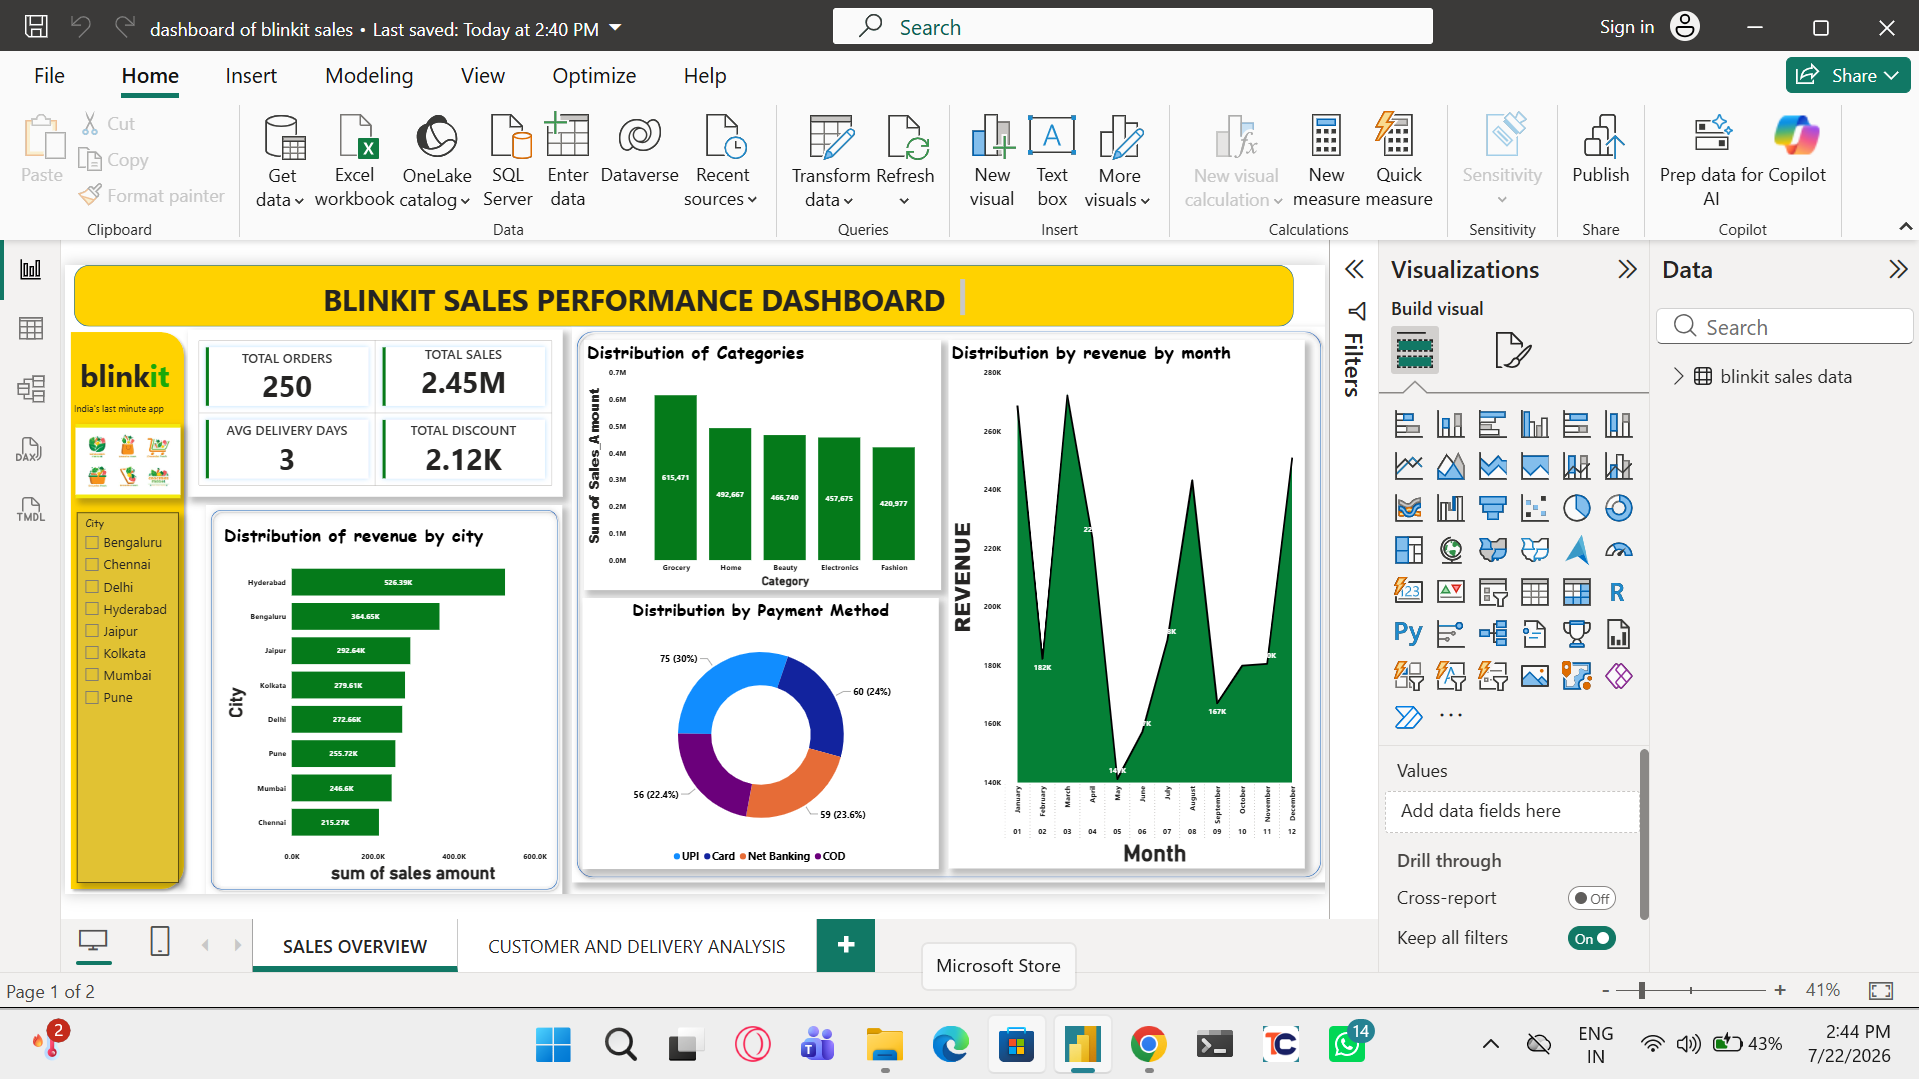

Layout of this report page (visuals, bound fields, positions):
{"tool":"powerbi","page":{"name":"SALES  OVERVIEW","canvas":[2050,1024],"ordinal":0},"visuals":[{"type":"shape","box":[0,100,202.4,923.8],"z":0},{"type":"textbox","box":[14.8,142.6,164.8,74.1],"z":1000},{"type":"textbox","box":[8.9,216.7,166.7,33.3],"z":2000},{"type":"cardVisual","fields":{"Data":["blinkit sales data.Total Orders","blinkit sales data.Total Sales Amount","blinkit sales data.Avg delivery days","blinkit sales data.Total Discount"]},"box":[200,105.6,609.3,272.2],"z":3000},{"type":"shape","box":[229.6,390.7,579.6,633.3],"z":4000},{"type":"barChart","title":"Distribution of revenue by city","fields":{"Category":["blinkit sales data.City"],"Y":["Sum(blinkit sales data.Sales_Amount)"]},"box":[252.5,420,535,590],"z":5000},{"type":"shape","box":[824.1,100,1225.9,903.7],"z":6000},{"type":"columnChart","title":"Distribution of Categories","fields":{"Category":["blinkit sales data.Category"],"Y":["Sum(blinkit sales data.Sales_Amount)"]},"box":[843.5,121.7,580.4,406.5],"z":7000},{"type":"donutChart","title":"Distribution by Payment Method","fields":{"Y":["CountNonNull(blinkit sales data.Order_ID)"],"Category":["blinkit sales data.Payment_Method"]},"box":[842.6,540.7,579.6,440.7],"z":8000},{"type":"lineChart","title":"Distribution by revenue by month","fields":{"Category":["blinkit sales data.month_no","blinkit sales data.Month"],"Y":["Sum(blinkit sales data.Sales_Amount)"]},"box":[1437,122.2,579.6,859.3],"z":9000},{"type":"slicer","fields":{"Values":["blinkit sales data.City"]},"box":[18.3,401.7,165,601.7],"z":10000},{"type":"image","box":[16.7,257.4,170.4,120.4],"z":11000},{"type":"shape","box":[14.3,0,1983.3,100],"z":12000},{"type":"textbox","box":[390.5,11.9,1078.6,76.2],"z":13000}]}

Visuals, with their boxes on the page's 2050x1024 design canvas (x1, y1, x2, y2). These are canvas units, not pixel positions in the 1919x1079 screenshot, which may show the page scaled, cropped or inside an application window:
shape: (0,100,202,1024)
textbox: (15,143,180,217)
textbox: (9,217,176,250)
cardVisual - blinkit sales data.Total Orders x blinkit sales data.Total Sales Amount: (200,106,809,378)
shape: (230,391,809,1024)
"Distribution of revenue by city" barChart: (252,420,788,1010)
shape: (824,100,2050,1004)
"Distribution of Categories" columnChart: (844,122,1424,528)
"Distribution by Payment Method" donutChart: (843,541,1422,981)
"Distribution by revenue by month" lineChart: (1437,122,2017,982)
slicer - blinkit sales data.City: (18,402,183,1003)
image: (17,257,187,378)
shape: (14,0,1998,100)
textbox: (390,12,1469,88)
